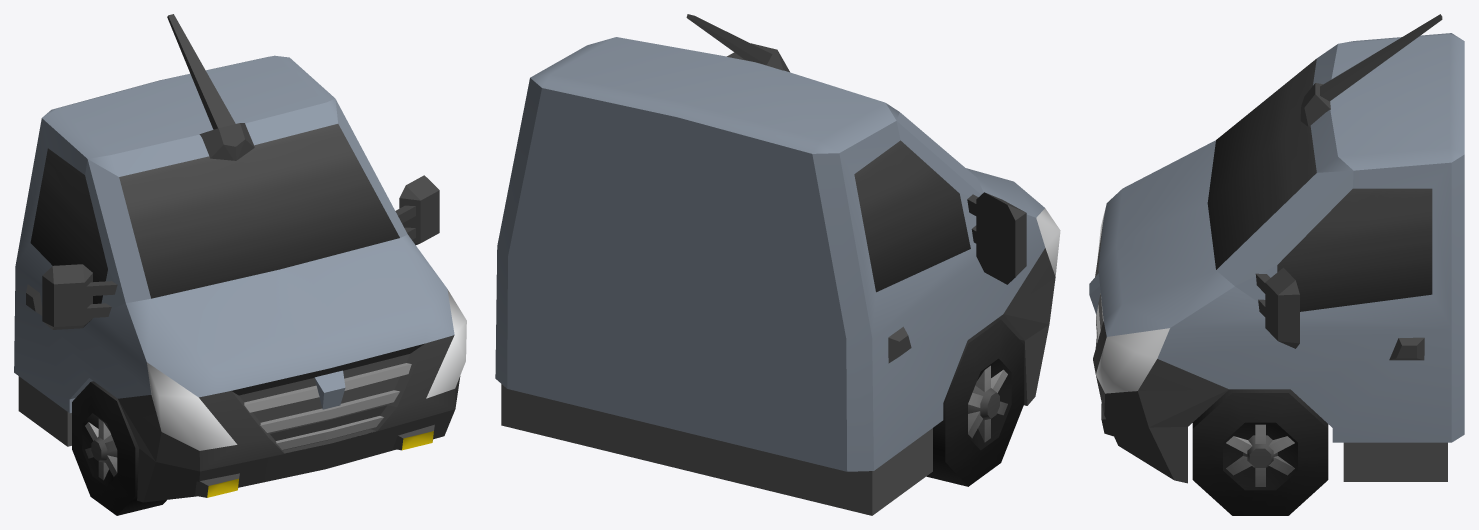
Rendered from head_B_1.fbx.
3 renders of one model, left to right at view 1: azimuth 30°, elevation 25°; view 2: azimuth 150°, elevation 25°; view 3: azimuth 270°, elevation 25°, orthographic. The views are drawn at different scales.
Parts seen in each view (by area): view 1: head_B_1; view 2: head_B_1; view 3: head_B_1.
Boxes of the visible parts, bbox=[...] form: head_B_1: bbox=[14, 14, 466, 515]; head_B_1: bbox=[495, 14, 1060, 515]; head_B_1: bbox=[1089, 14, 1464, 515].
Size of the model in its own units: 1608 by 1556 by 1256.
